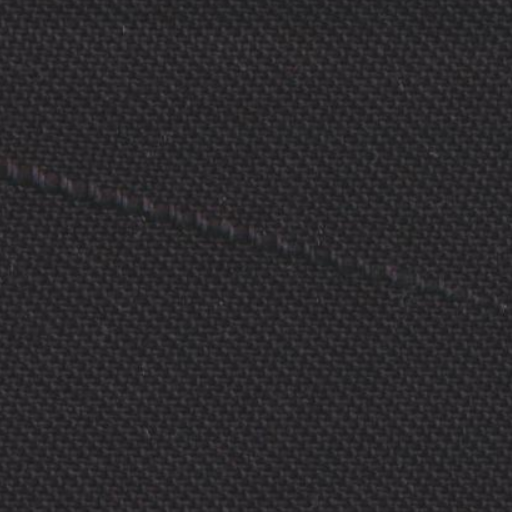DaiSha: (9, 146, 492, 315)
